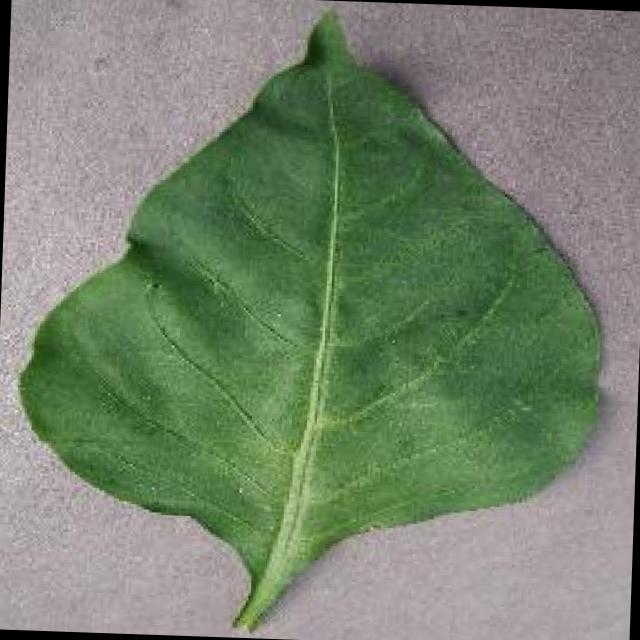Chilli_Healthy: (6, 0, 613, 640)
